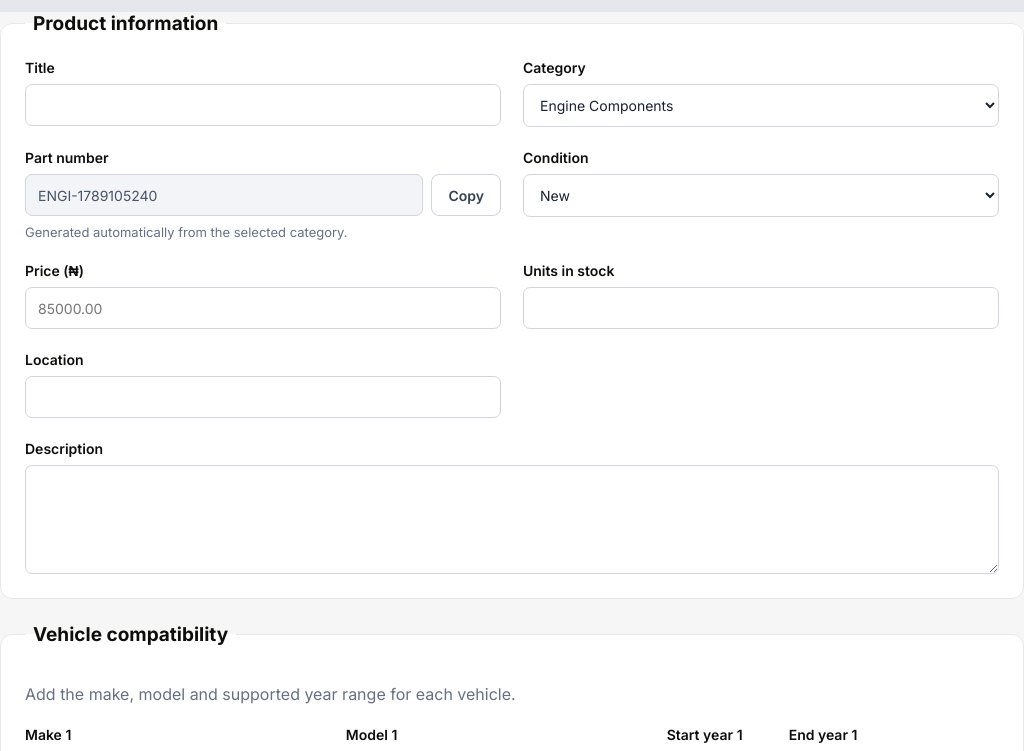
Scenario: shared product form › generates a disabled category-based part number and regenerates when category changes
The width and height of the screenshot is (1024, 751).
Expected: the field labelled "Part number" is disabled, x1=25 y1=174 x2=423 y2=216
Expected: the field labelled "Part number" holds "ENGI-1789105240", x1=25 y1=174 x2=423 y2=216
Select "Radiators" in the dropdown labelled "Category" at (761, 106), box x1=523 y1=84 x2=999 y2=127
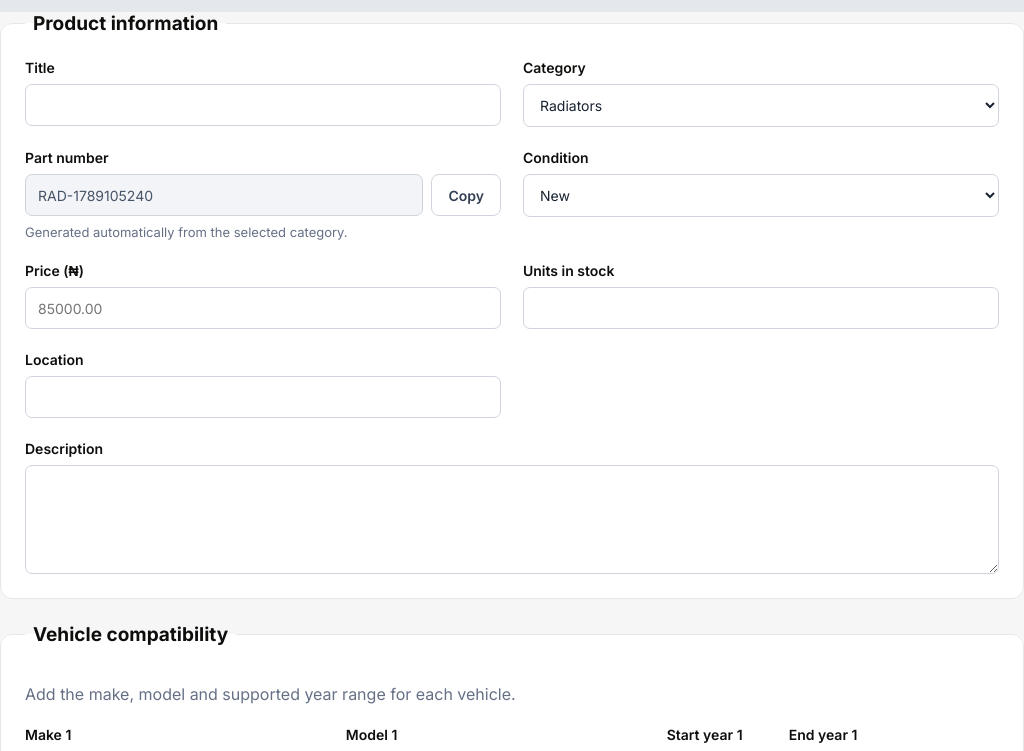
Expected: the text "Generated automatically from the selected category." is shown, x1=25 y1=224 x2=348 y2=240
Now the field labelled "Part number" holds "RAD-1789105240", box x1=25 y1=174 x2=423 y2=216
